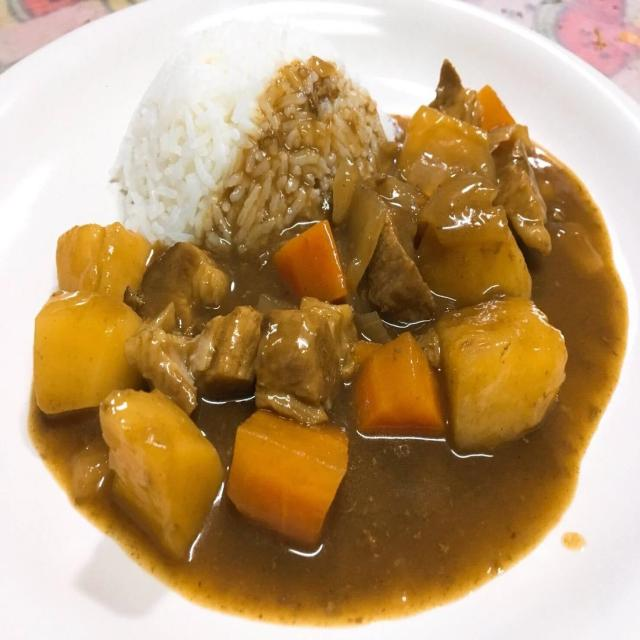carb: (106, 21, 387, 257)
meat: (123, 302, 262, 415), (255, 311, 347, 423), (125, 244, 230, 337), (369, 210, 437, 324), (492, 141, 553, 257), (303, 299, 359, 384), (431, 61, 485, 129)
vegetable: (103, 395, 227, 556), (443, 301, 570, 455), (227, 411, 347, 546), (416, 175, 533, 313), (33, 293, 146, 410), (353, 336, 448, 440), (400, 106, 498, 200), (56, 224, 151, 303), (276, 221, 347, 309), (367, 175, 430, 258), (335, 184, 385, 286), (334, 158, 370, 223), (479, 86, 514, 132), (491, 126, 532, 154)
